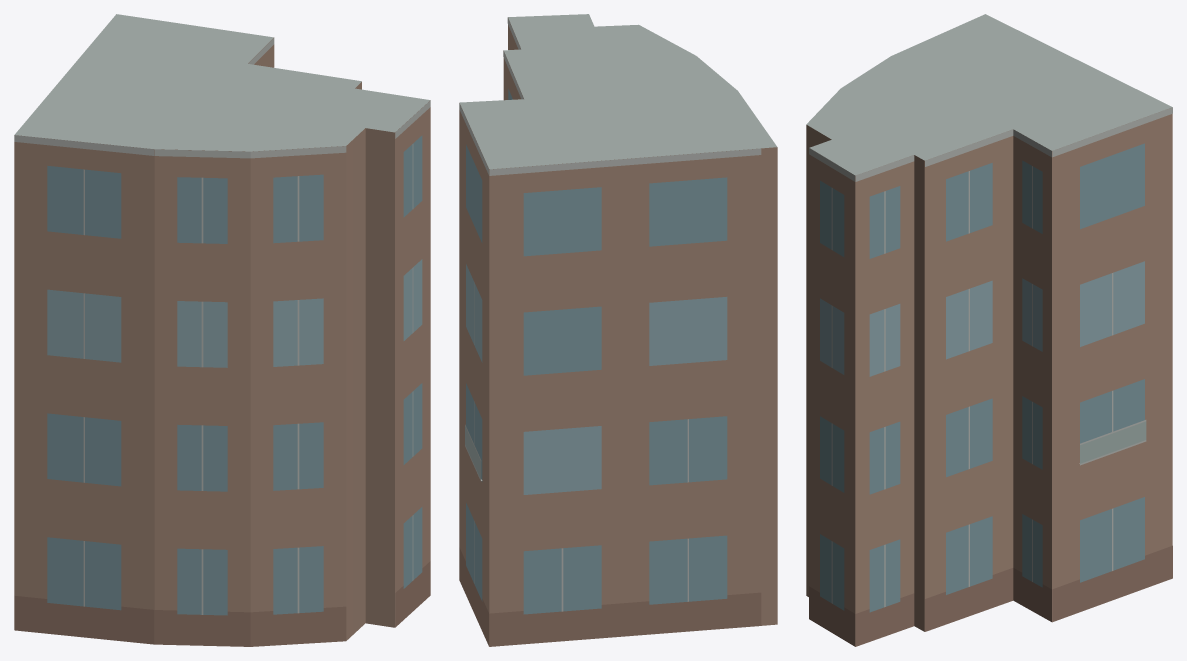
Rendered from survey-upis-32481640.glb.
3 renders of one model, left to right at view 1: azimuth 30°, elevation 25°; view 2: azimuth 150°, elevation 25°; view 3: azimuth 270°, elevation 25°, orthographic. The views are drawn at different scales.
Visible parts, largest first — view 1: survey-upis-32481640.tmp; view 2: survey-upis-32481640.tmp; view 3: survey-upis-32481640.tmp.
Part boxes in pixels (<box>): survey-upis-32481640.tmp: <box>14,14,430,646</box>; survey-upis-32481640.tmp: <box>459,14,777,646</box>; survey-upis-32481640.tmp: <box>806,14,1172,646</box>.
Bounding box in the file's own units: 13.01 × 17.68 × 12.47.
